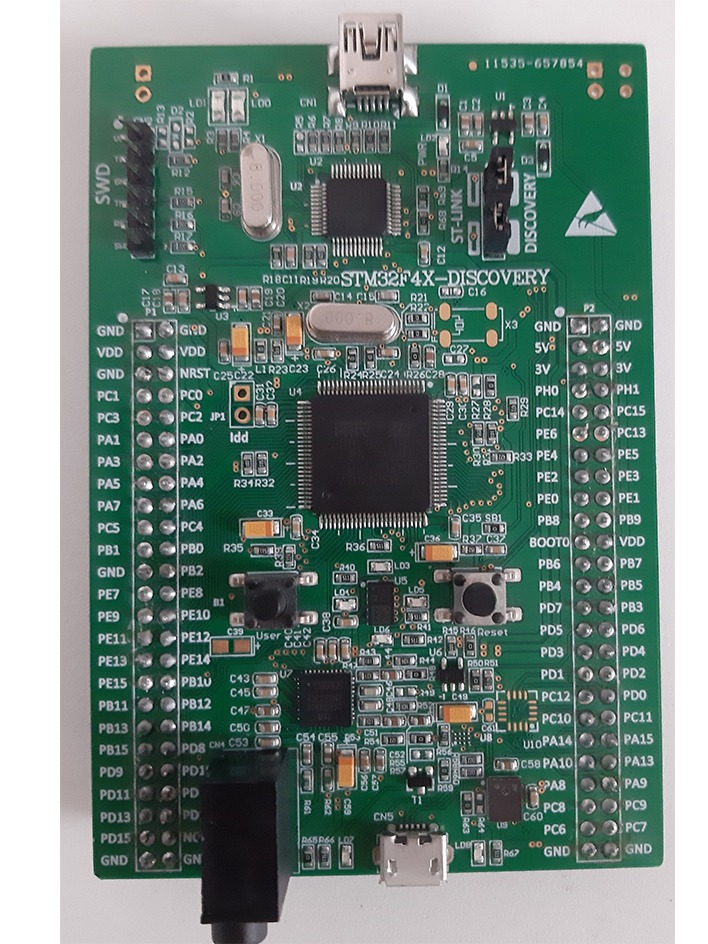STM32F4-DISC: (64, 18, 682, 937)
